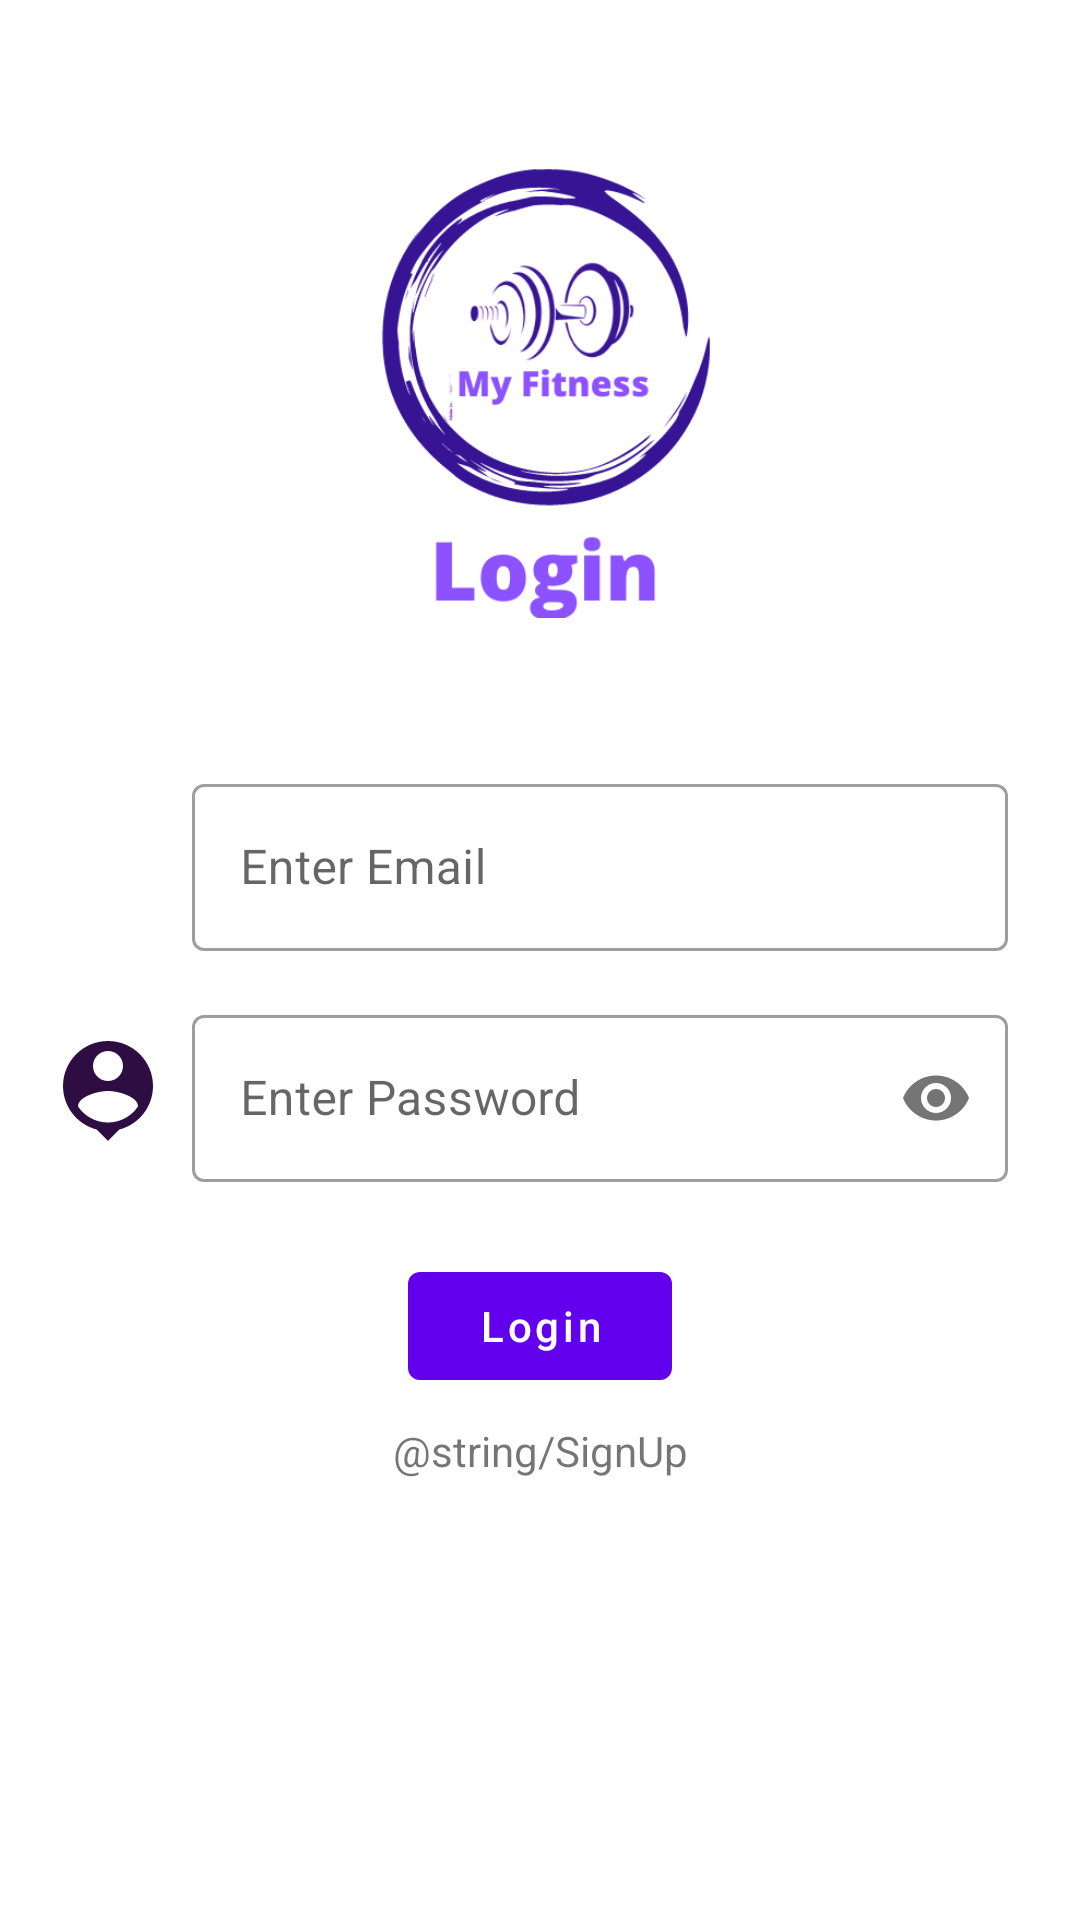

Icon bounding boxes for this 1080 × 1920 phone screenshot, format [left=x1, top=y1, right=x2, bottom=y2]:
person pin: [left=63, top=1041, right=153, bottom=1141]
